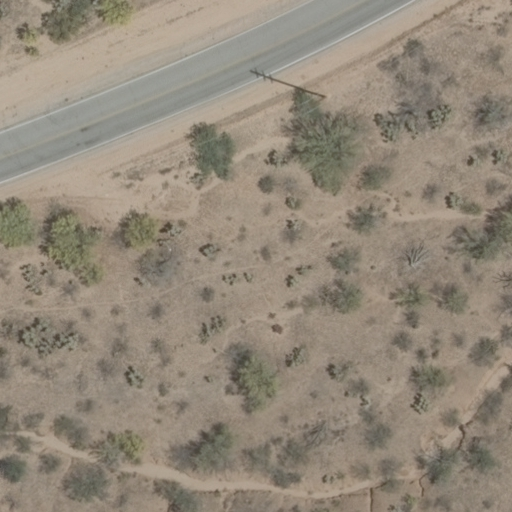DT: (295, 85, 329, 108)
